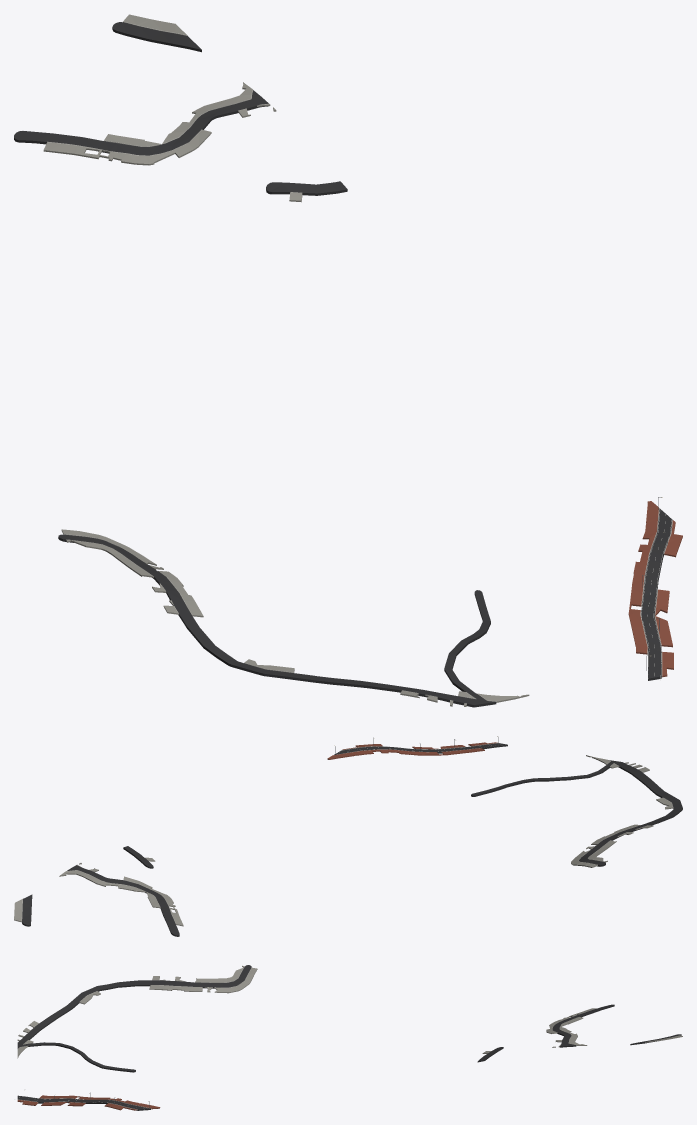
3 views of the same model, one above another, from view 1: azimuth 30°, elevation 25°; view 2: azimuth 150°, elevation 25°; view 3: azimuth 270°, elevation 25° (orthographic). The views are drawn at different scales.
Size of the model in its own units: 267 by 88.73 by 582.
